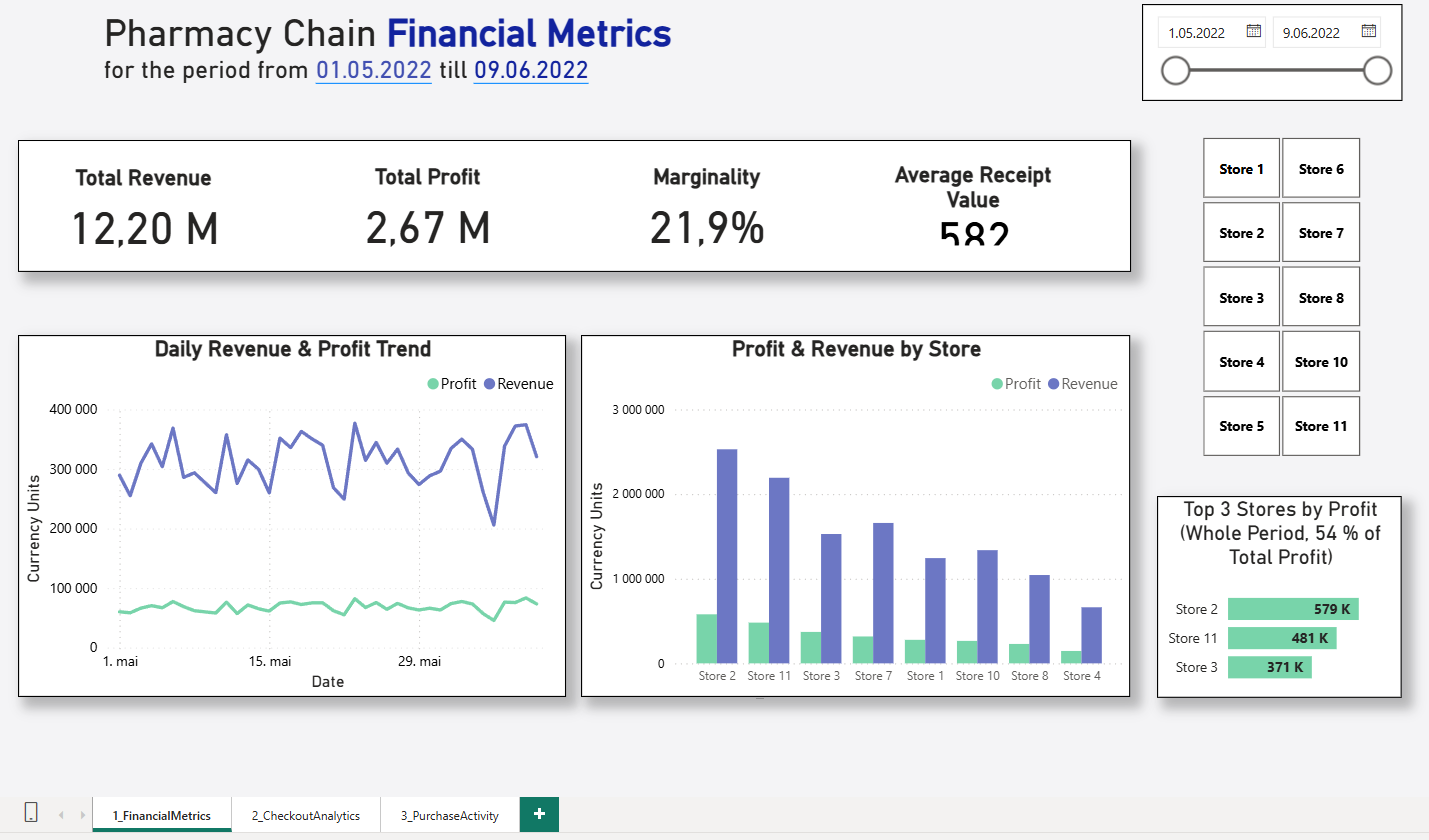

What the dashboard file says about the page in this screenshot:
{"tool":"powerbi","page":{"name":" 1_FinancialMetrics","canvas":[1280,720],"ordinal":0},"visuals":[{"type":"slicer","title":"ID shops","fields":{"Values":["public shops.Store Nr"]},"box":[1054,128.8,189,295.7],"z":0},{"type":"shape","box":[29.4,137.4,986.5,116.6],"z":1000},{"type":"card","title":"Total Revenue","fields":{"Values":["public sales._revenue f"]},"box":[50.3,159.5,180.4,79.8],"z":2000},{"type":"card","title":"Total Profit ","fields":{"Values":["public bonuscheques._profit form"]},"box":[302.3,158.8,180.4,80.2],"z":3000},{"type":"lineChart","title":"Daily Revenue & Profit Trend","fields":{"Y":["public sales._profit","public sales._revSales"],"Category":["Calendar.Date"]},"box":[29.4,310.4,485.9,321.5],"z":4000},{"type":"card","title":"Marginality","fields":{"Values":["public bonuscheques._marginality"]},"box":[550.6,158.8,178.9,80.2],"z":5000},{"type":"card","title":"Average Receipt Value","fields":{"Values":["public sales._Average Check"]},"box":[763.2,157.1,225.8,78.5],"z":6000},{"type":"clusteredBarChart","title":"Top 3 Stores by Profit (Whole Period, 54 % of Total Profit)","fields":{"Category":["top3.Store Nr"],"Y":["Sum(top3.Profit)"]},"box":[1039.3,452.8,217.2,179.1],"z":7000},{"type":"textbox","box":[99.8,17.7,565.1,98.2],"z":8000},{"type":"slicer","fields":{"Values":["Calendar.Date"]},"box":[1025.8,17.2,230.7,85.9],"z":9000},{"type":"clusteredColumnChart","title":"Profit & Revenue by Store","fields":{"Y":["public sales._profit","public sales._revSales"],"Category":["public shops.Store Nr"]},"box":[528.8,310.4,487.1,321.5],"z":10000}]}

Visuals, with their boxes on the page's 1280x720 design canvas (x1, y1, x2, y2). These are canvas units, not pixel positions in the 1429x840 screenshot, which may show the page scaled, cropped or inside an application window:
"ID shops" slicer: bbox=(1054, 129, 1243, 424)
shape: bbox=(29, 137, 1016, 254)
"Total Revenue" card: bbox=(50, 160, 231, 239)
"Total Profit " card: bbox=(302, 159, 483, 239)
"Daily Revenue & Profit Trend" lineChart: bbox=(29, 310, 515, 632)
"Marginality" card: bbox=(551, 159, 730, 239)
"Average Receipt Value" card: bbox=(763, 157, 989, 236)
"Top 3 Stores by Profit (Whole Period, 54 % of Total Profit)" clusteredBarChart: bbox=(1039, 453, 1256, 632)
textbox: bbox=(100, 18, 665, 116)
slicer - Calendar.Date: bbox=(1026, 17, 1256, 103)
"Profit & Revenue by Store" clusteredColumnChart: bbox=(529, 310, 1016, 632)
